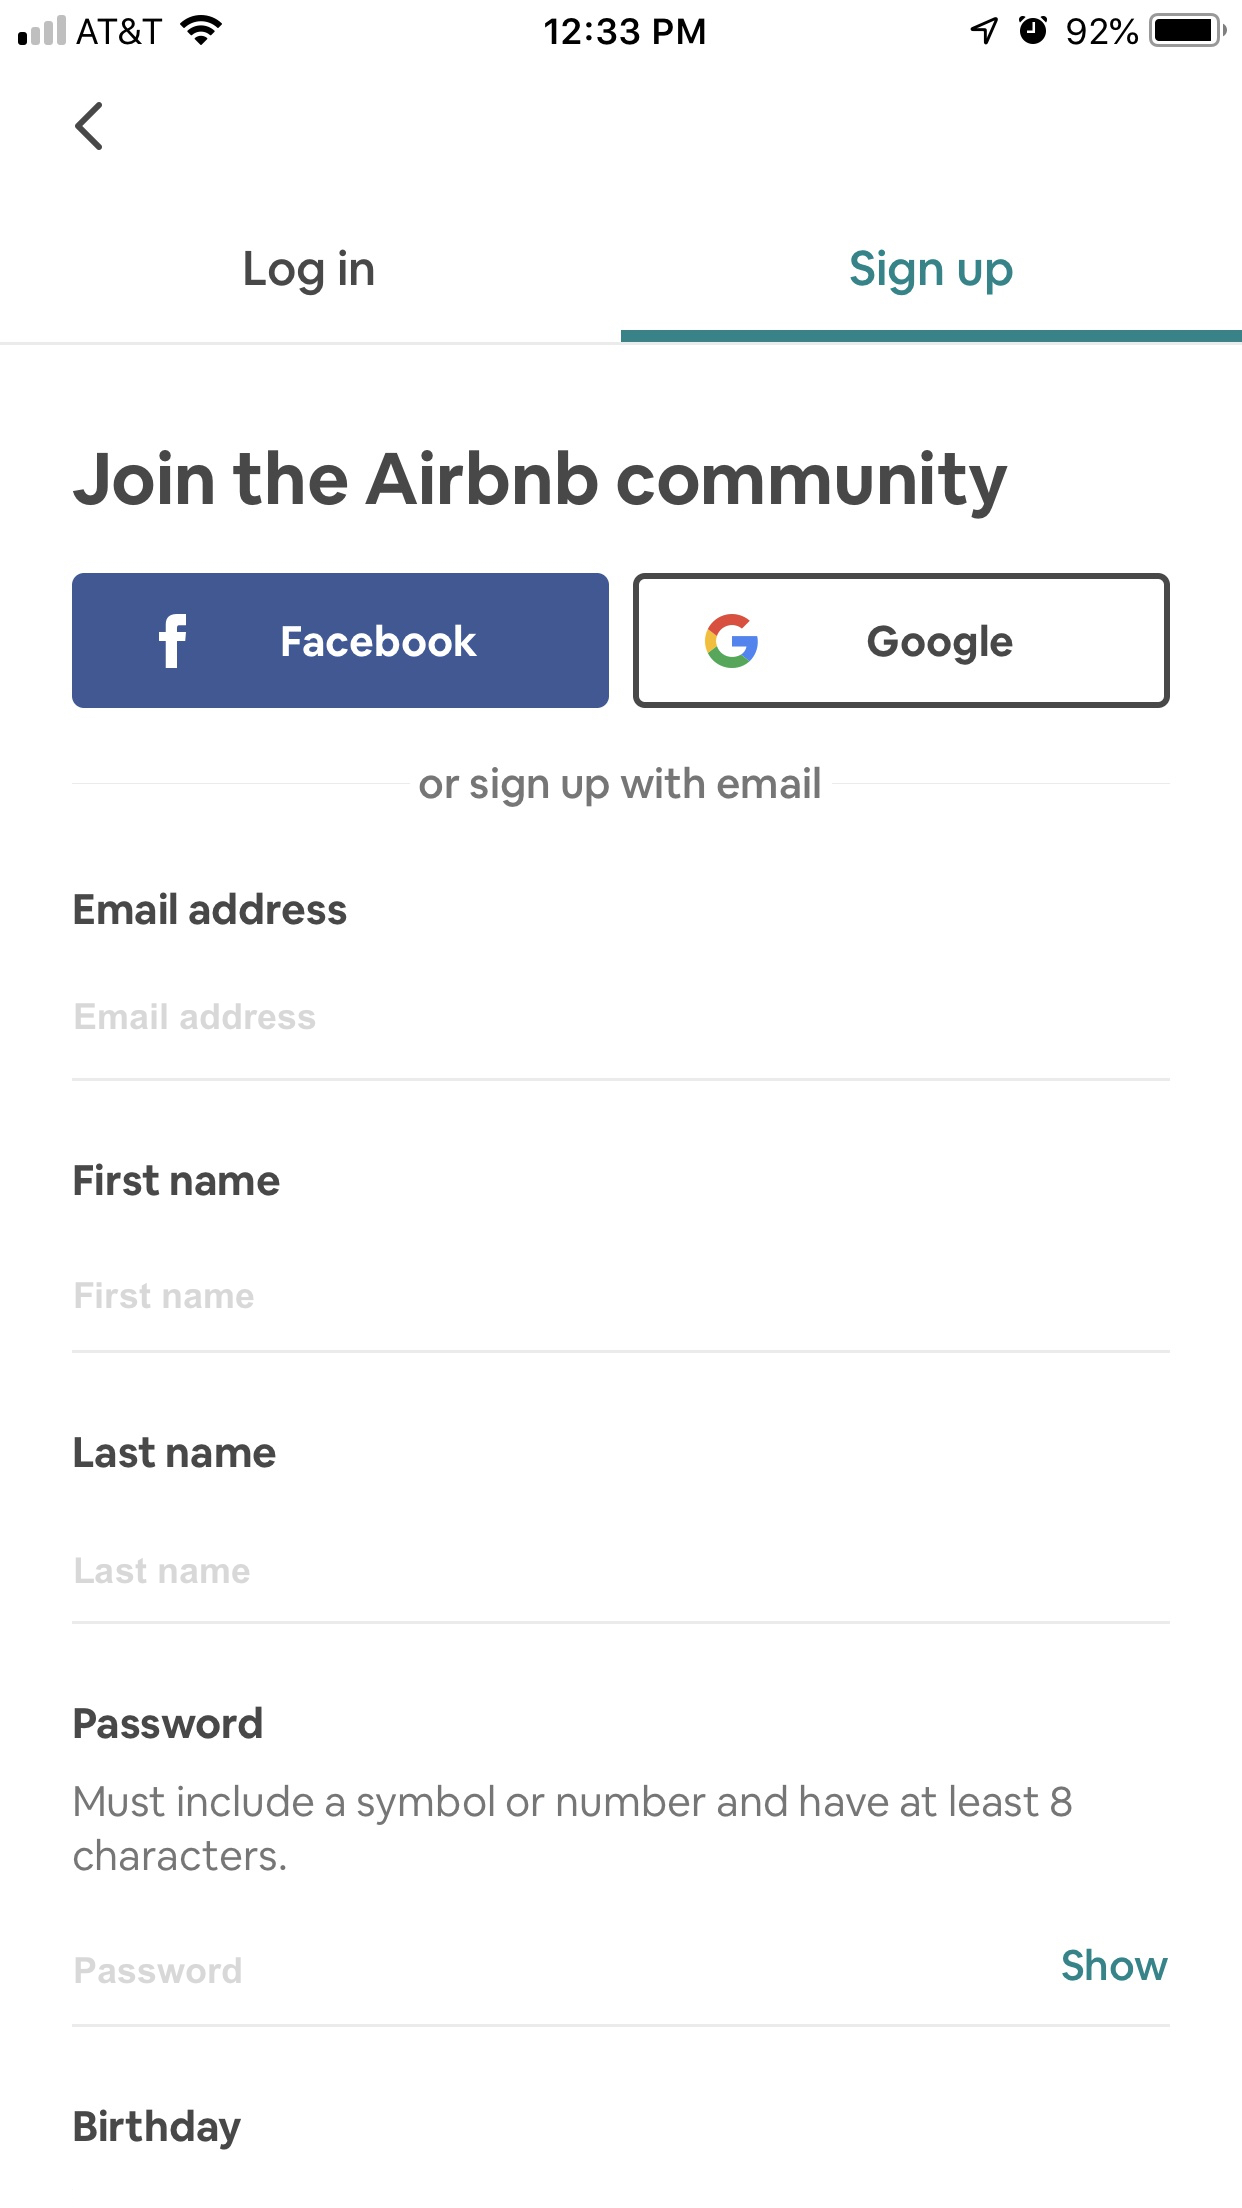EditText: (71, 1947, 1171, 2028), (71, 1002, 1171, 1083), (71, 1281, 1171, 1356), (71, 1557, 1171, 1626)
Icon: (74, 102, 105, 152)
Text: (74, 1783, 1074, 1871), (73, 450, 1008, 522), (419, 766, 820, 808), (74, 892, 347, 927), (851, 249, 1015, 297), (74, 1001, 317, 1031), (74, 1162, 282, 1197), (74, 2108, 243, 2150), (74, 1705, 262, 1739), (74, 1438, 278, 1469), (246, 249, 375, 297), (74, 1955, 243, 1987), (74, 1281, 255, 1310), (76, 1557, 252, 1585), (1062, 1947, 1169, 1982)
TextButton: (632, 572, 1171, 710), (71, 573, 610, 710)
UpperTaskBar: (2, 2, 1242, 49)
